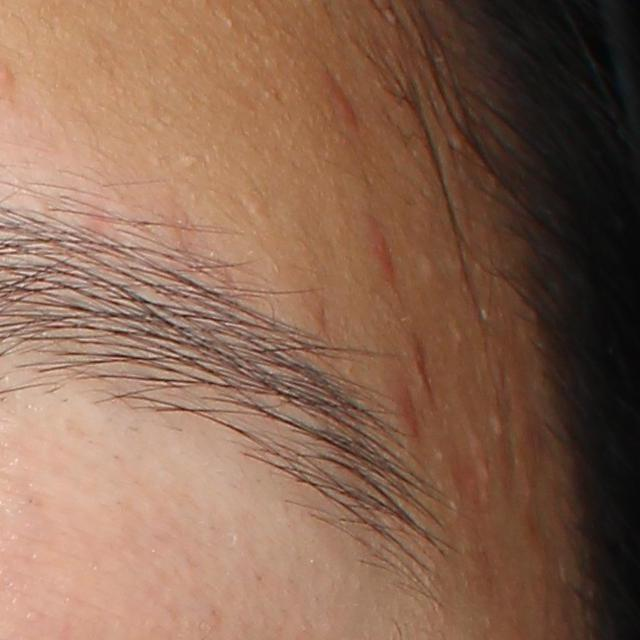papule: (372, 229, 395, 279)
